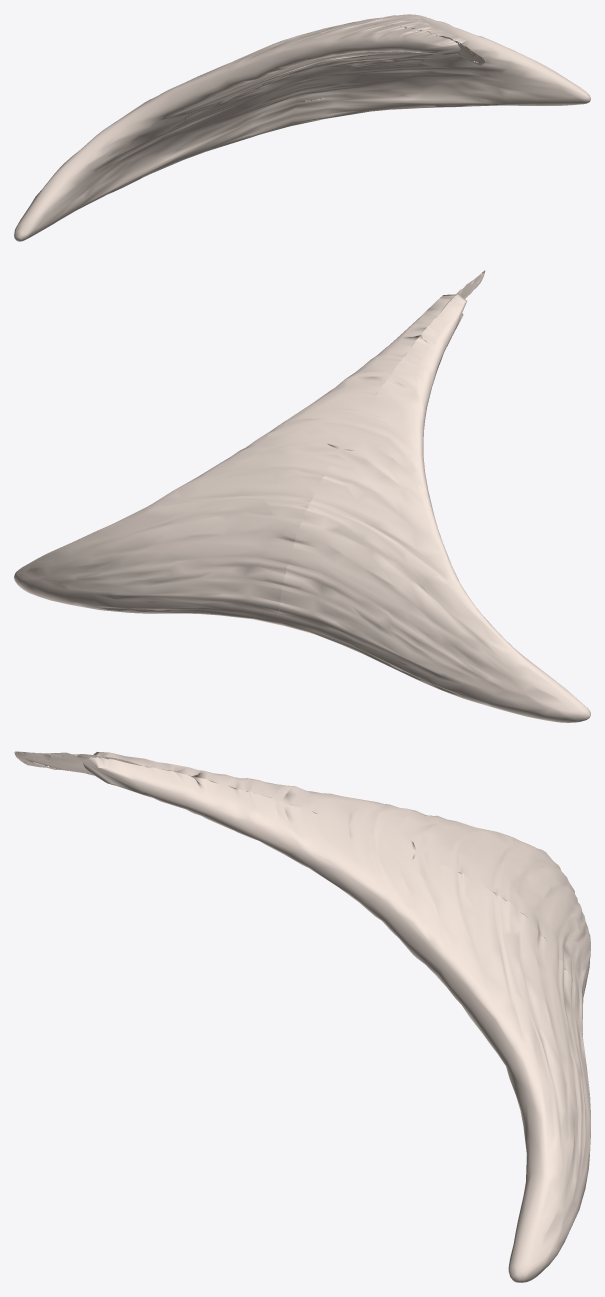
Rendered from nervoso-hippocampal-commissure.glb.
3 renders of one model, top to bottom at view 1: azimuth 30°, elevation 25°; view 2: azimuth 150°, elevation 25°; view 3: azimuth 270°, elevation 25°, orthographic. The views are drawn at different scales.
Visible parts, largest first — view 1: Hippocampal commissure; view 2: Hippocampal commissure; view 3: Hippocampal commissure.
Boxes of the visible parts, x1,y1,x2,y2 form: Hippocampal commissure: (14,14,590,241); Hippocampal commissure: (14,270,590,722); Hippocampal commissure: (14,751,590,1282).
Size of the model in its own units: 0.0476 by 0.0197 by 0.03.
